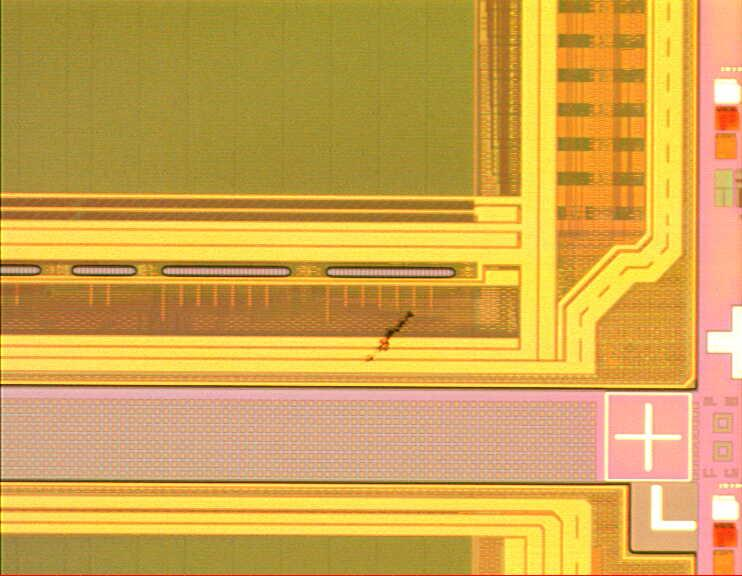PIQ PARTICLE: (363, 308, 419, 369)
